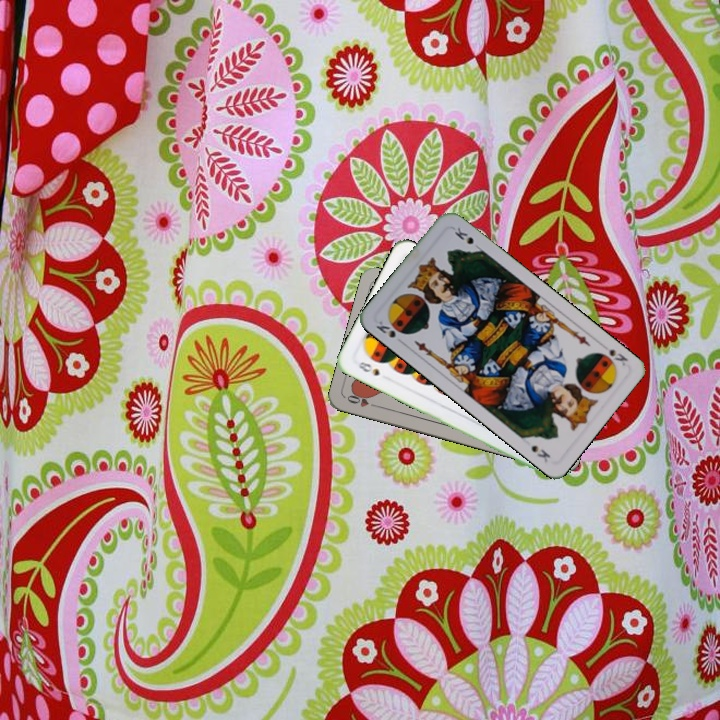HO: (343, 389, 382, 410)
S8: (354, 358, 382, 378)
SK: (594, 344, 631, 370), (372, 317, 398, 340)
